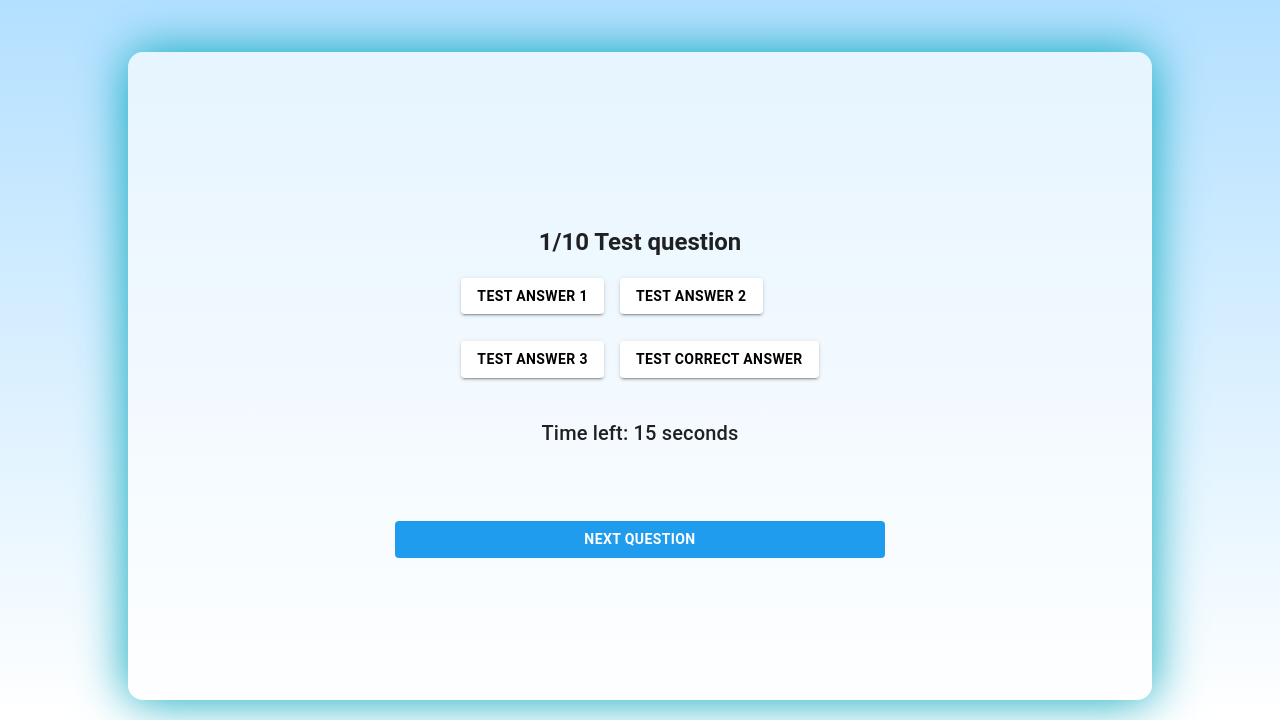
Test case: GetQuestion component › Should play and guess the correct answer
Expected: the heading "1/10 Test question" is shown, [539,226,741,258]
Click the button "Test correct answer" at [719, 360], box [620,341,819,378]
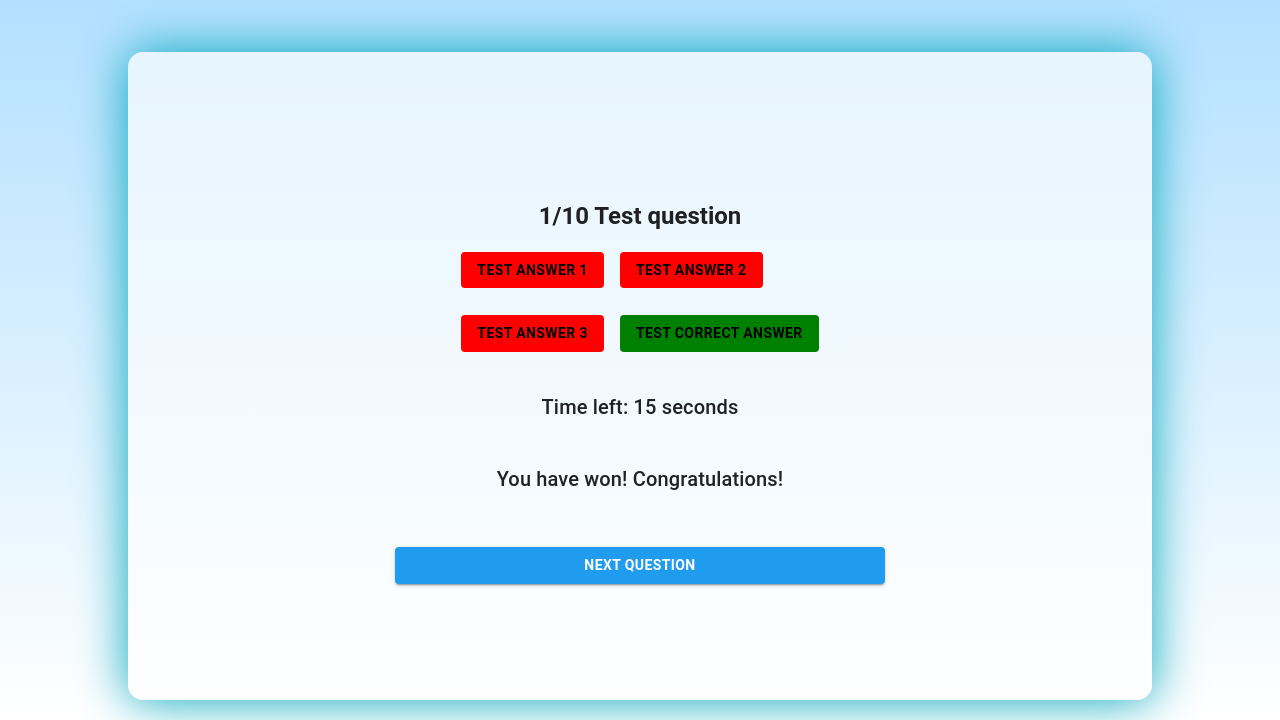
Expected: the text "You have won! Congratulations!" is shown, [497,463,783,495]
